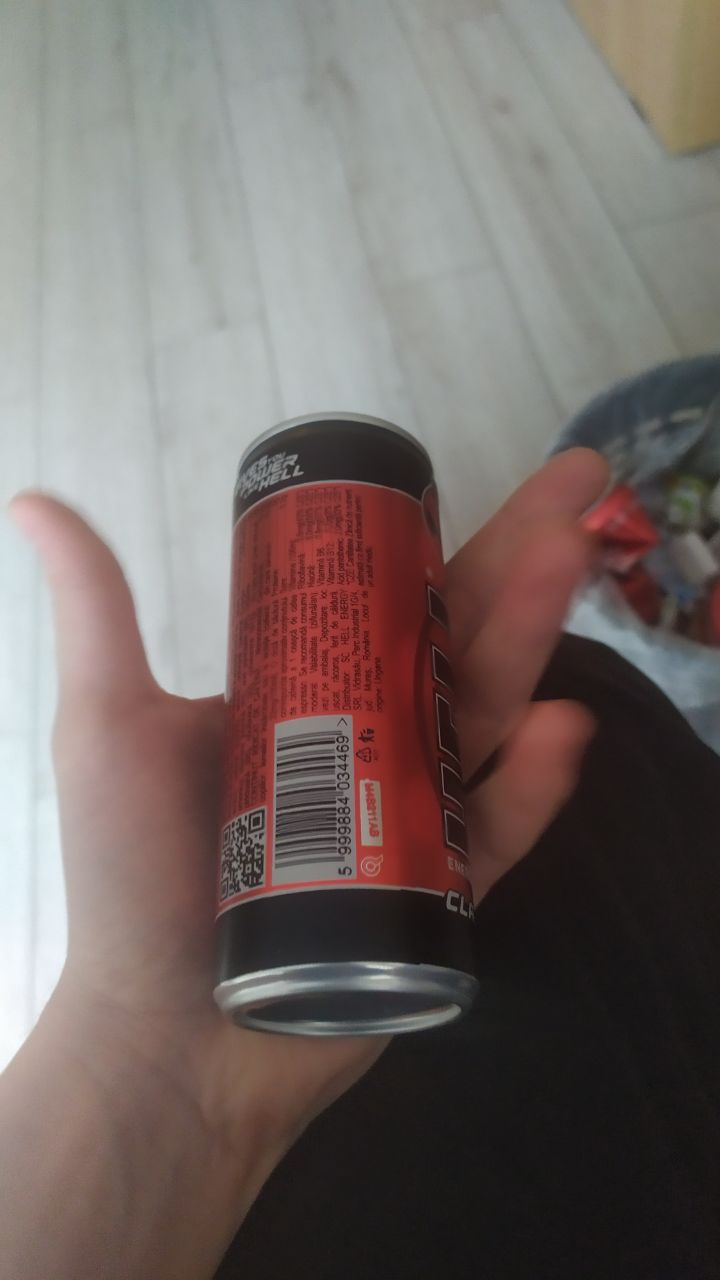Can: (221, 411, 480, 1033)
